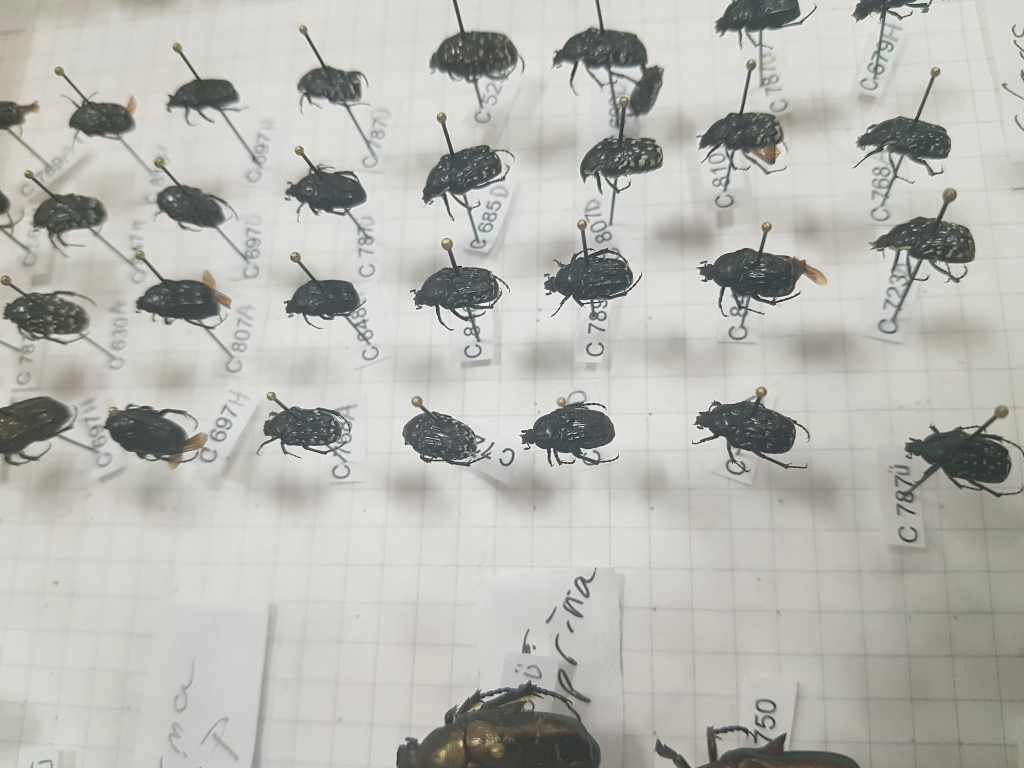Oxythyrea_albopicta: (694, 233, 828, 320), (538, 245, 646, 323), (388, 401, 487, 477), (573, 124, 668, 193), (406, 260, 514, 319)
